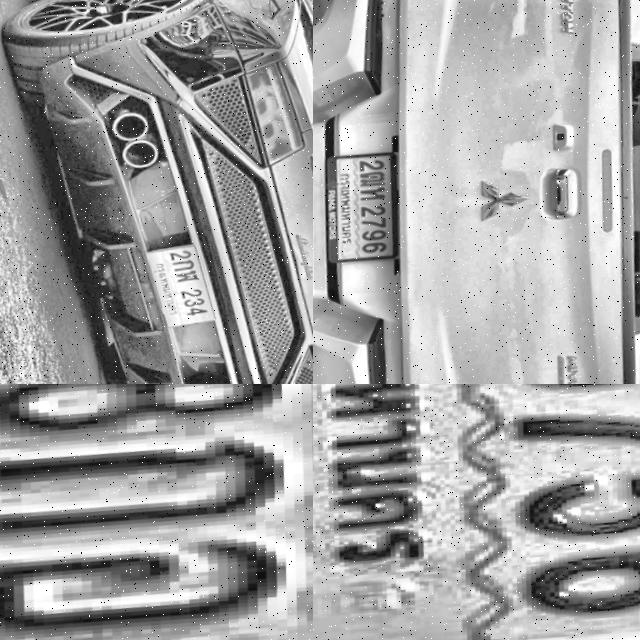license-plate: (313, 384, 640, 640), (0, 384, 313, 640), (320, 148, 412, 265), (138, 236, 233, 333)
